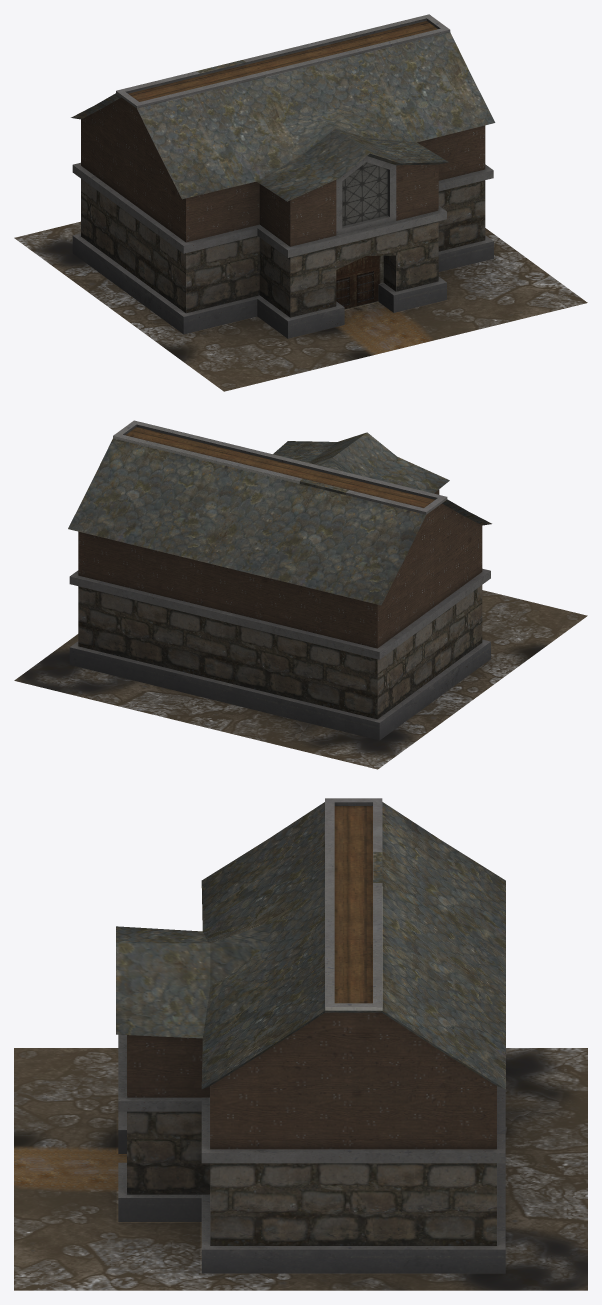
File: Bank.FBX
3 renders of one model, top to bottom at view 1: azimuth 30°, elevation 25°; view 2: azimuth 150°, elevation 25°; view 3: azimuth 270°, elevation 25°, orthographic. The views are drawn at different scales.
Visible parts, largest first — view 1: Bank; view 2: Bank; view 3: Bank.
Part boxes in pixels (<box>): Bank: <box>14,14,587,391</box>; Bank: <box>14,420,587,769</box>; Bank: <box>14,798,587,1290</box>.
Size of the model in its own units: 11.81 by 6.07 by 11.81.
